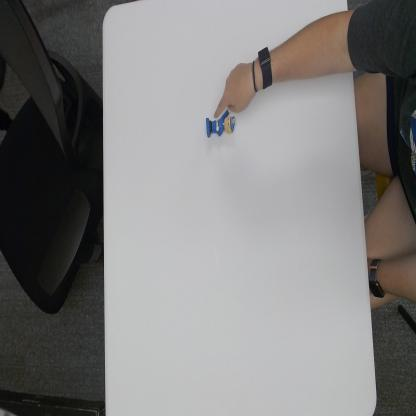Arm: (278, 4, 350, 87)
Hand: (212, 59, 258, 119)
